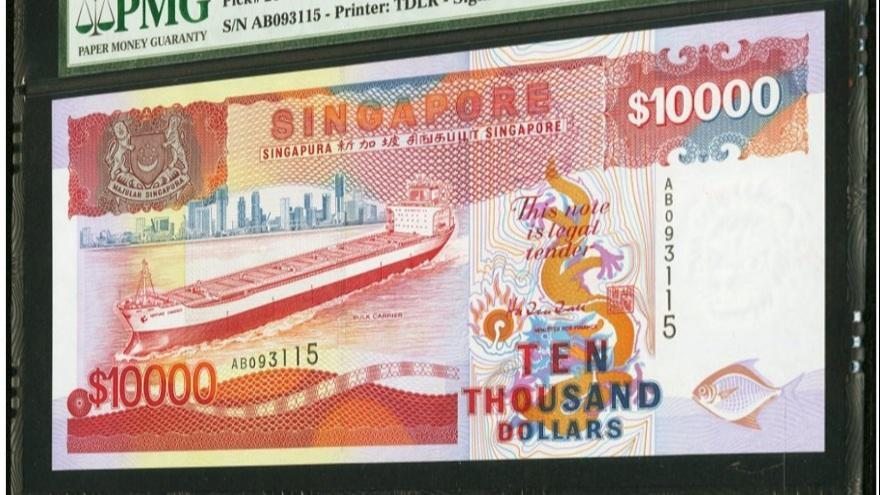10000SingaporeDollar: (59, 32, 823, 450)
